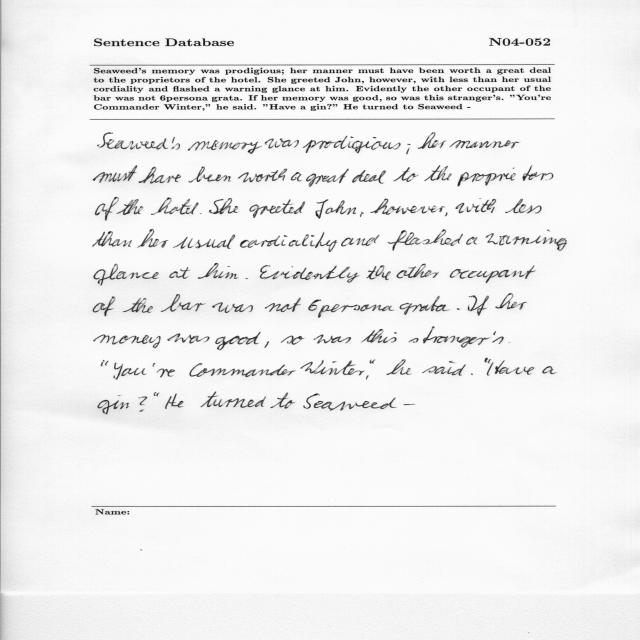word: (361, 327, 504, 348), (98, 132, 219, 151), (458, 166, 554, 187), (240, 232, 337, 252), (486, 229, 567, 251), (260, 265, 359, 283), (303, 136, 401, 153), (304, 394, 397, 411), (388, 230, 463, 251), (450, 265, 536, 283), (308, 300, 394, 318), (189, 363, 296, 377), (94, 264, 159, 286), (301, 360, 369, 380), (370, 198, 445, 215), (249, 199, 305, 218), (200, 392, 266, 408), (400, 296, 449, 315), (94, 335, 161, 348), (173, 235, 235, 249), (316, 199, 357, 219), (151, 198, 199, 215), (161, 294, 206, 312), (216, 332, 261, 350), (93, 165, 137, 183), (306, 169, 348, 187), (487, 360, 534, 376), (138, 167, 181, 184), (188, 167, 231, 183), (422, 361, 466, 376), (396, 264, 439, 279), (198, 263, 238, 279), (238, 169, 287, 182), (93, 231, 132, 247), (456, 198, 497, 213), (137, 229, 168, 248), (98, 395, 129, 414), (113, 363, 147, 380), (95, 197, 119, 221), (450, 140, 520, 148), (219, 141, 262, 154), (505, 199, 542, 214), (495, 293, 527, 310), (265, 298, 301, 313), (418, 132, 446, 149), (352, 170, 386, 184), (209, 198, 238, 214), (212, 302, 253, 313), (123, 298, 153, 313), (424, 165, 452, 181), (94, 297, 116, 317), (116, 199, 143, 215), (167, 334, 210, 344), (341, 235, 380, 246), (468, 296, 489, 316), (271, 393, 296, 409), (393, 167, 419, 182), (366, 265, 391, 280), (265, 139, 299, 149), (314, 335, 351, 344), (153, 363, 175, 377), (387, 359, 406, 375), (165, 393, 184, 409), (169, 267, 190, 279), (281, 336, 304, 345), (139, 397, 148, 412), (542, 366, 557, 374), (398, 367, 412, 375), (291, 172, 302, 181), (466, 237, 477, 245), (406, 144, 411, 154), (102, 360, 109, 366), (264, 341, 269, 348), (484, 358, 491, 363), (154, 392, 160, 397), (370, 359, 375, 364), (360, 212, 364, 217), (445, 212, 448, 216), (493, 331, 496, 335), (403, 404, 415, 405), (457, 308, 460, 310), (471, 373, 473, 375), (246, 278, 249, 279), (200, 213, 202, 214)
